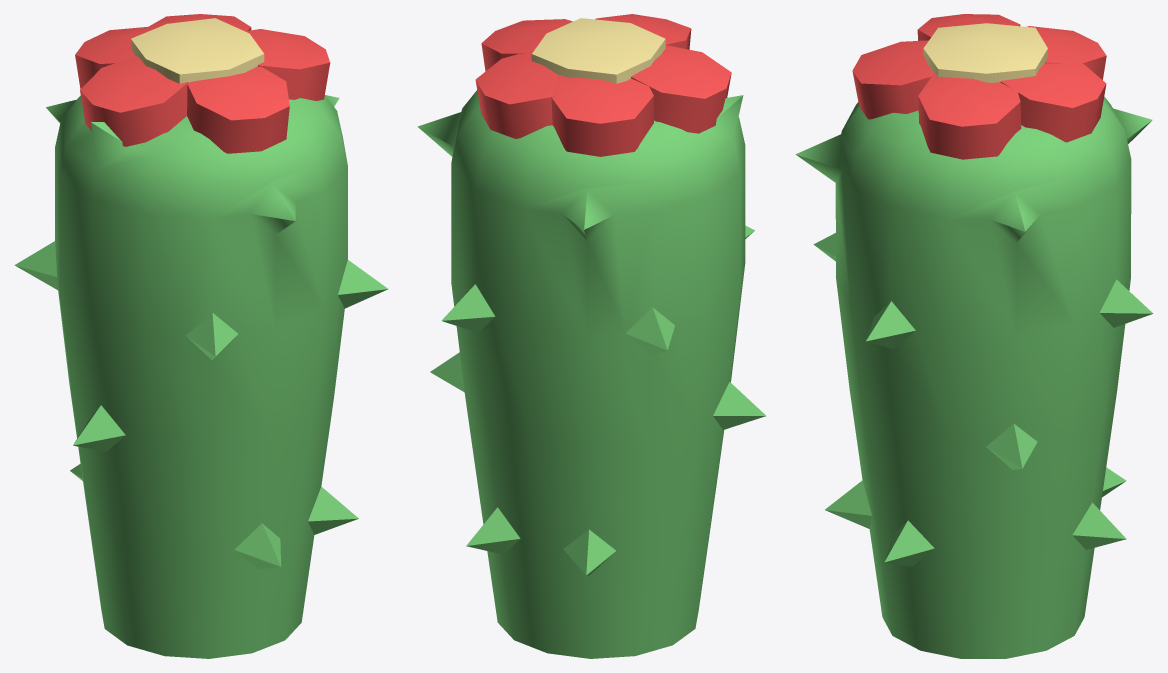
File: Cactus_B.fbx
3 renders of one model, left to right at view 1: azimuth 30°, elevation 25°; view 2: azimuth 150°, elevation 25°; view 3: azimuth 270°, elevation 25°, orthographic.
Visible parts, largest first — view 1: Cactus_B; view 2: Cactus_B; view 3: Cactus_B.
Part boxes in pixels (<box>): Cactus_B: <box>14,14,388,658</box>; Cactus_B: <box>417,14,765,658</box>; Cactus_B: <box>795,14,1153,658</box>.
Size of the model in its own units: 84.95 by 153 by 85.94.
